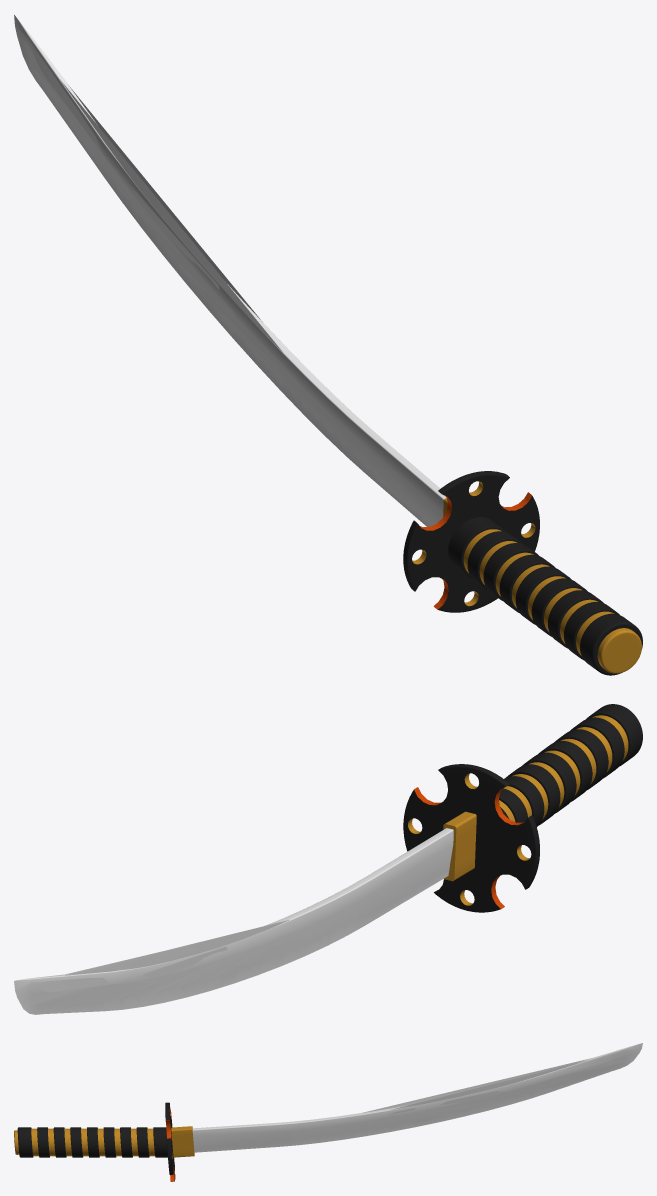
The model's file is Katana.fbx.
3 views of the same model, one above another, from view 1: azimuth 30°, elevation 25°; view 2: azimuth 150°, elevation 25°; view 3: azimuth 270°, elevation 25° (orthographic). The views are drawn at different scales.
Visible parts, largest first — view 1: katana_Plane.002; view 2: katana_Plane.002; view 3: katana_Plane.002.
Boxes of the visible parts, <box> form: katana_Plane.002: <box>14,15,642,675</box>; katana_Plane.002: <box>14,704,642,1014</box>; katana_Plane.002: <box>14,1043,642,1181</box>.
Bounding box in the file's own units: 50.82 × 95.54 × 403.
